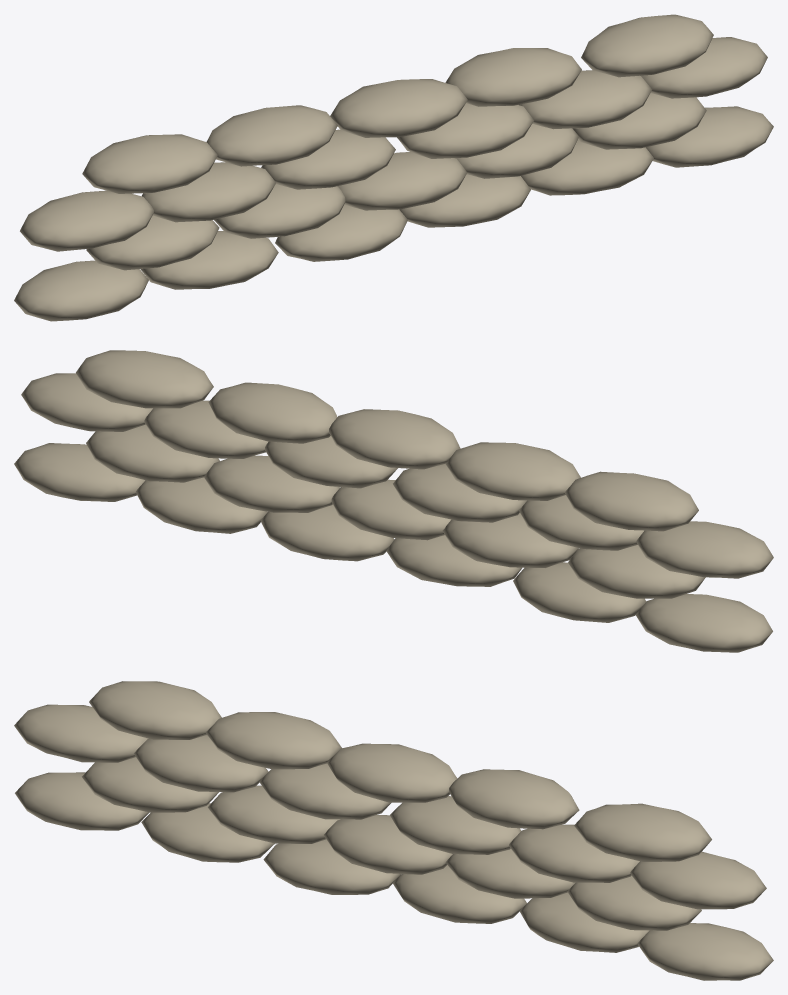
Rendered from SM_Sandbag_Wall.fbx.
3 views of the same model, one above another, from view 1: azimuth 30°, elevation 25°; view 2: azimuth 150°, elevation 25°; view 3: azimuth 330°, elevation 25° (orthographic).
Parts seen in each view (by area): view 1: SM_Sandbag_Wall; view 2: SM_Sandbag_Wall; view 3: SM_Sandbag_Wall.
Part boxes in pixels (box(x1,y1,x2,y2)): SM_Sandbag_Wall: box(14, 14, 773, 321); SM_Sandbag_Wall: box(14, 350, 773, 652); SM_Sandbag_Wall: box(14, 681, 773, 980).
Bounding box in the file's own units: 3.51 × 0.6629 × 0.4549.
